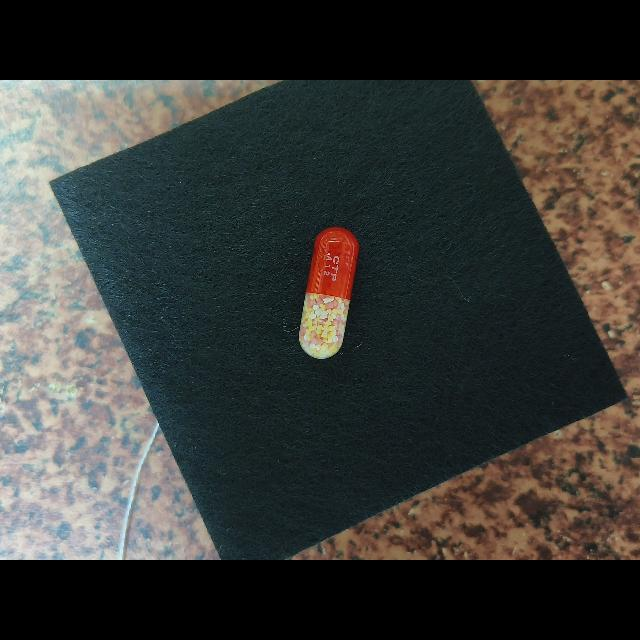Intact Capsule: (299, 227, 359, 359)
